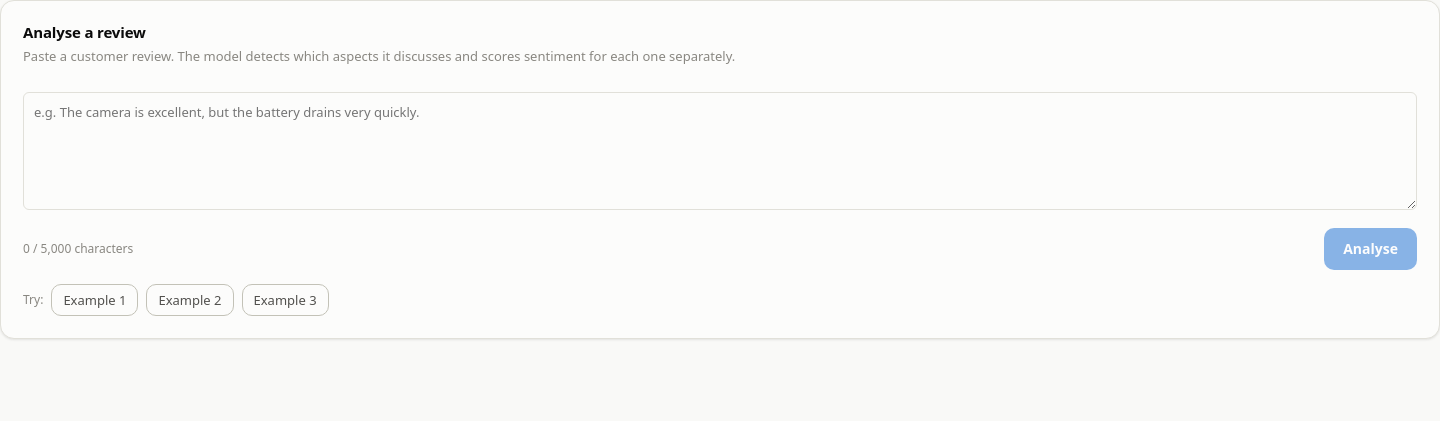
Test: error states › falls back to a generic message for a non-ApiError
Type "Great camera" into the text box named "review text" at (720, 151), box [23,92,1417,210]
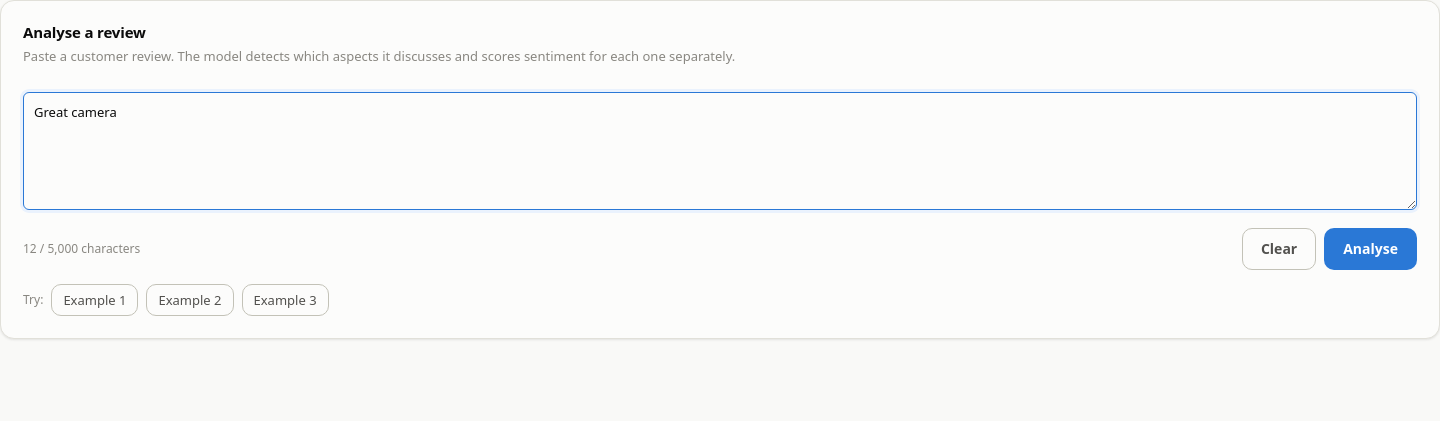
Click the button "Analyse" at (1371, 249), box [1324,228,1417,270]
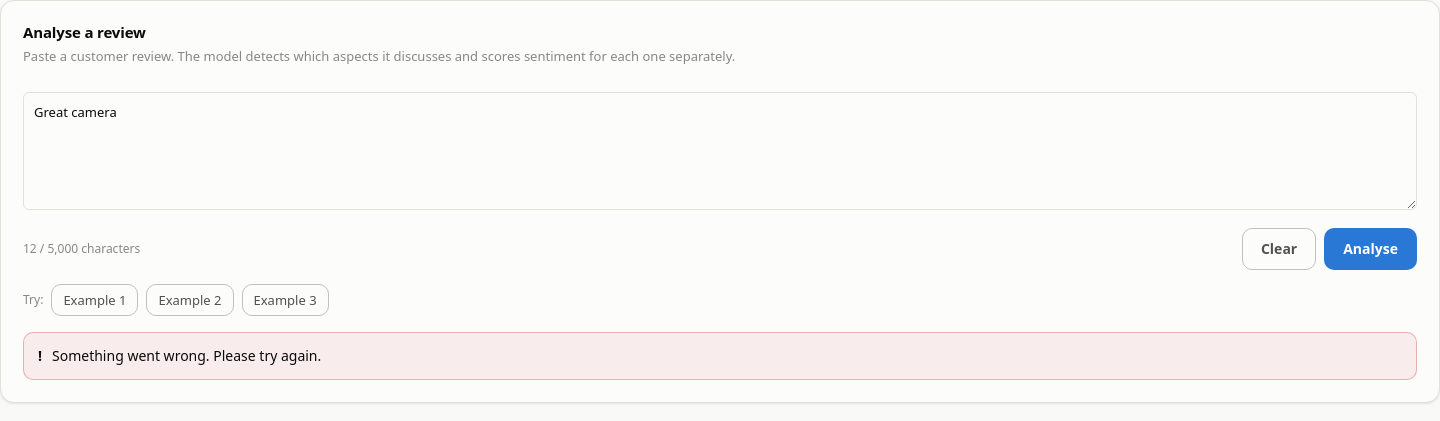
Now the message shows "Something went wrong", box [52,346,321,365]
